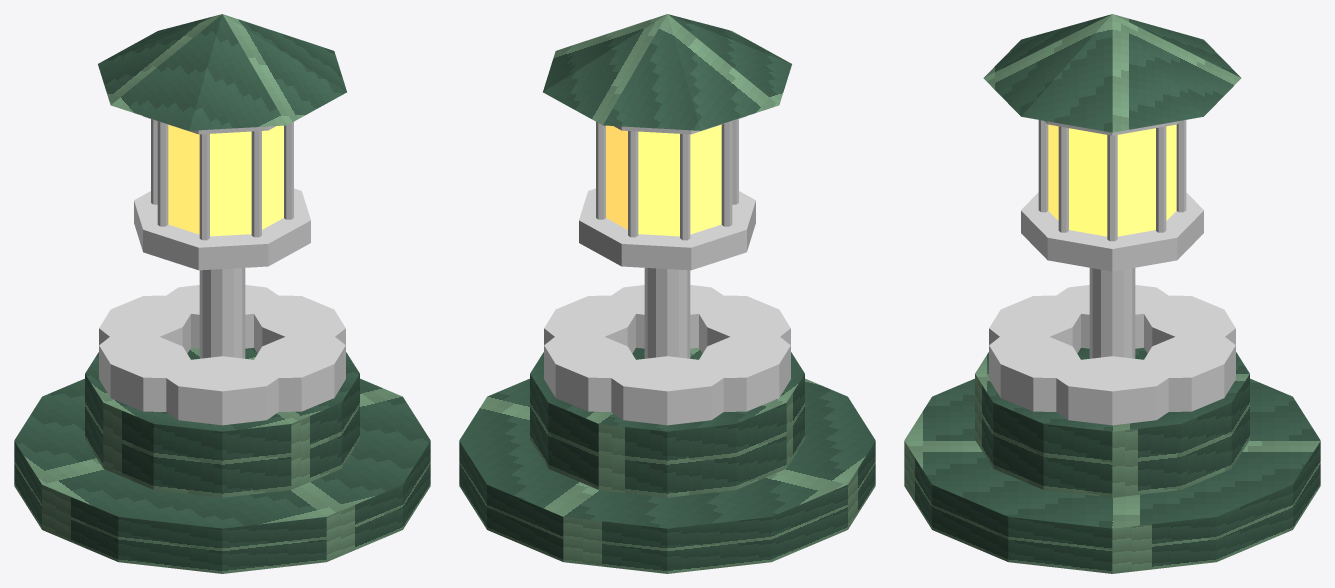
File: camp_beacon.glb
The picture shows the model from 3 angles, left to right: view 1: azimuth 30°, elevation 25°; view 2: azimuth 150°, elevation 25°; view 3: azimuth 270°, elevation 25°; orthographic projection.
Visible parts, largest first — view 1: CampFoundation, BeaconPedestal, BeaconRoof, LanternGlow, LanternCap, LotusPetal.004, LotusPetal.005, LotusPetal.003, LanternStem, LotusPetal, LotusPetal.002, LotusPetal.001 (+5 smaller); view 2: CampFoundation, BeaconPedestal, BeaconRoof, LanternGlow, LanternCap, LotusPetal.002, LotusPetal.003, LotusPetal.001, LanternStem, LotusPetal, LotusPetal.004, LotusPetal.005 (+5 smaller); view 3: CampFoundation, BeaconPedestal, BeaconRoof, LanternGlow, LanternCap, LotusPetal, LotusPetal.001, LotusPetal.005, LanternStem, LotusPetal.002, LotusPetal.004, LotusPetal.003 (+5 smaller).
Part boxes in pixels (left/top/right/bottom): CampFoundation: left=14, top=378, right=430, bottom=573; BeaconPedestal: left=85, top=347, right=359, bottom=497; BeaconRoof: left=98, top=14, right=346, bottom=130; LanternGlow: left=168, top=124, right=283, bottom=236; LanternCap: left=134, top=188, right=310, bottom=270; LotusPetal.004: left=160, top=356, right=284, bottom=425; LotusPetal.005: left=251, top=332, right=345, bottom=411; LotusPetal.003: left=99, top=332, right=192, bottom=411; LanternStem: left=199, top=268, right=245, bottom=358; LotusPetal: left=251, top=295, right=345, bottom=353; LotusPetal.002: left=99, top=295, right=193, bottom=353; LotusPetal.001: left=160, top=285, right=284, bottom=348; CampFoundation: left=459, top=378, right=875, bottom=573; BeaconPedestal: left=530, top=347, right=804, bottom=497; BeaconRoof: left=543, top=14, right=791, bottom=130; LanternGlow: left=606, top=124, right=721, bottom=236; LanternCap: left=579, top=188, right=755, bottom=270; LotusPetal.002: left=605, top=356, right=729, bottom=425; LotusPetal.003: left=696, top=332, right=790, bottom=411; LotusPetal.001: left=544, top=332, right=638, bottom=411; LanternStem: left=644, top=268, right=690, bottom=358; LotusPetal: left=544, top=295, right=638, bottom=353; LotusPetal.004: left=696, top=295, right=790, bottom=353; LotusPetal.005: left=605, top=285, right=729, bottom=348; CampFoundation: left=904, top=378, right=1320, bottom=573; BeaconPedestal: left=975, top=347, right=1249, bottom=497; BeaconRoof: left=983, top=14, right=1241, bottom=132; LanternGlow: left=1048, top=124, right=1176, bottom=236; LanternCap: left=1021, top=192, right=1203, bottom=271; LotusPetal: left=1050, top=356, right=1174, bottom=425; LotusPetal.001: left=1141, top=332, right=1235, bottom=411; LotusPetal.005: left=989, top=332, right=1083, bottom=411; LanternStem: left=1089, top=268, right=1135, bottom=358; LotusPetal.002: left=1141, top=295, right=1235, bottom=353; LotusPetal.004: left=989, top=295, right=1082, bottom=353; LotusPetal.003: left=1050, top=285, right=1174, bottom=348.
Size of the model in its own units: 2 by 2.5 by 2.
Materials: 3 (1 with a texture image).
